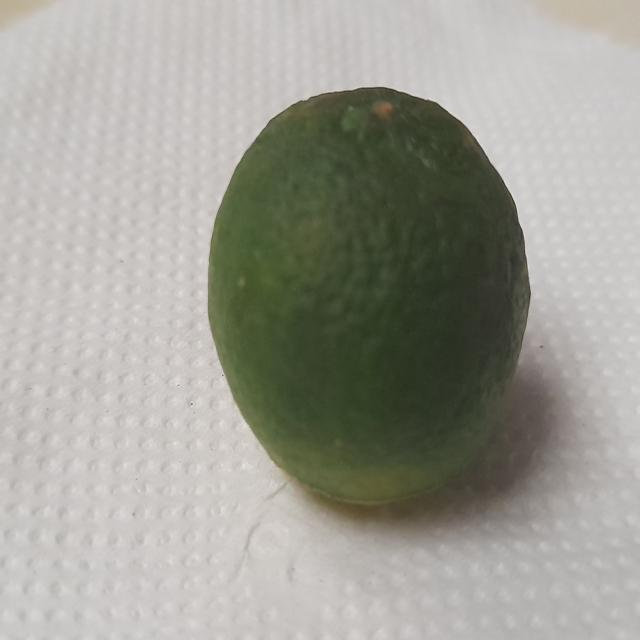heathy: (202, 71, 538, 524)
